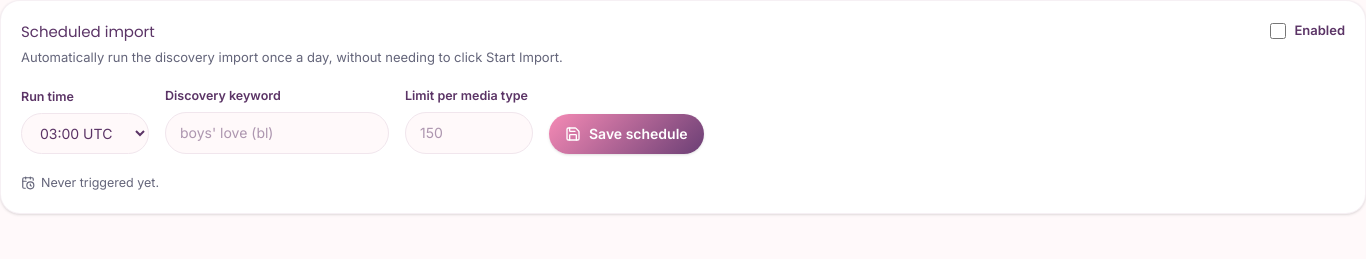
it: ImportScheduleSettings › surfaces a validation error message from the backend on save failure
Expected: the checkbox labelled "Enabled" is shown, [1270,23,1286,39]
Click the button "Save schedule".
click(626, 134)  # box [549,114,704,154]
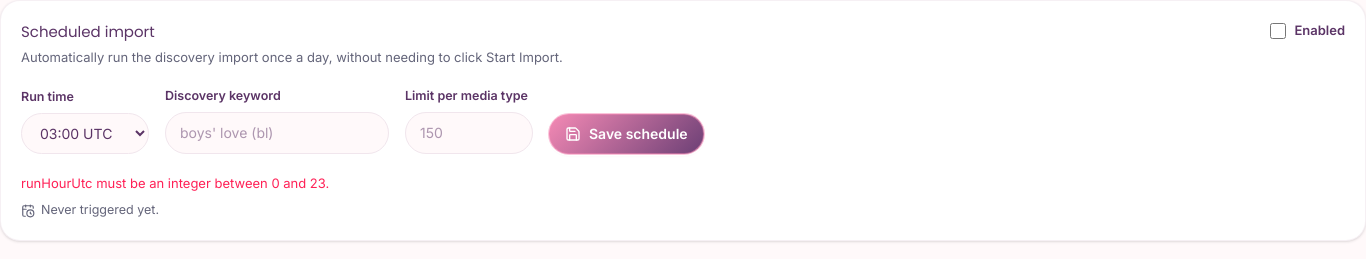
Result: the text "runHourUtc must be an integer between 0 and 23." is shown at [21,175,329,191]
